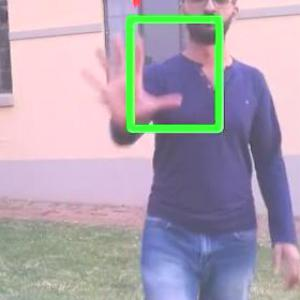follow_hand: (74, 27, 185, 134)
